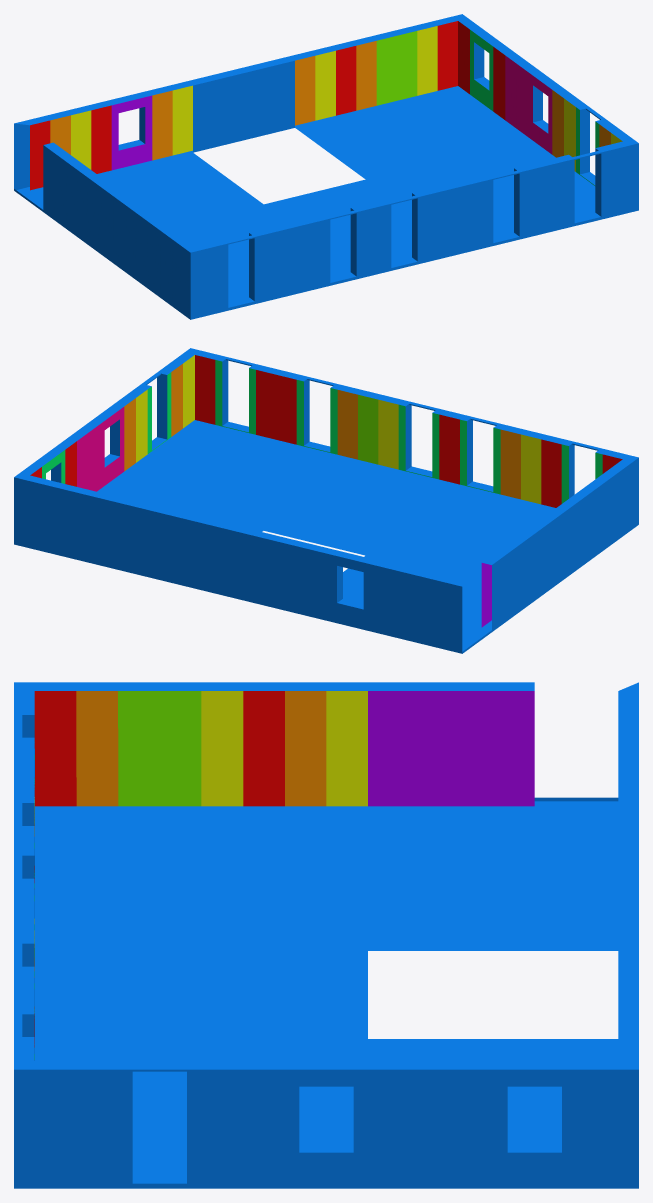
File: mursending.fbx
3 views of the same model, one above another, from view 1: azimuth 30°, elevation 25°; view 2: azimuth 150°, elevation 25°; view 3: azimuth 270°, elevation 25° (orthographic). The views are drawn at different scales.
Visible parts, largest first — view 1: sol_murs; view 2: sol_murs; view 3: sol_murs.
Boxes of the visible parts, bbox=[...] form: sol_murs: bbox=[14, 14, 638, 319]; sol_murs: bbox=[14, 348, 638, 653]; sol_murs: bbox=[14, 682, 638, 1188].
Size of the model in its own units: 866 by 124 by 591.
